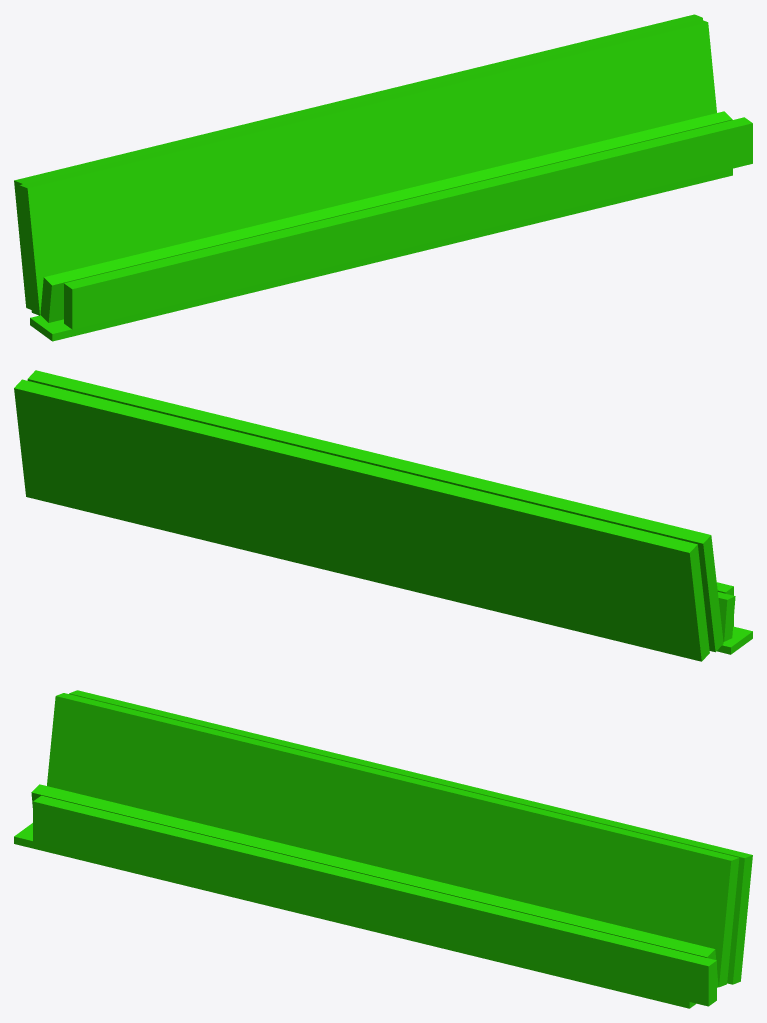
File: Factory_Boards_Grp_01.fbx
3 renders of one model, top to bottom at view 1: azimuth 30°, elevation 25°; view 2: azimuth 150°, elevation 25°; view 3: azimuth 330°, elevation 25°, orthographic.
Visible parts, largest first — view 1: Factory_Boards_Grp_01; view 2: Factory_Boards_Grp_01; view 3: Factory_Boards_Grp_01.
Boxes of the visible parts, x1=… form: Factory_Boards_Grp_01: x1=14, y1=14, x2=752, y2=341; Factory_Boards_Grp_01: x1=14, y1=370, x2=752, y2=661; Factory_Boards_Grp_01: x1=14, y1=690, x2=752, y2=1008.
Bounding box in the file's own units: 523 × 90.49 × 66.72.
